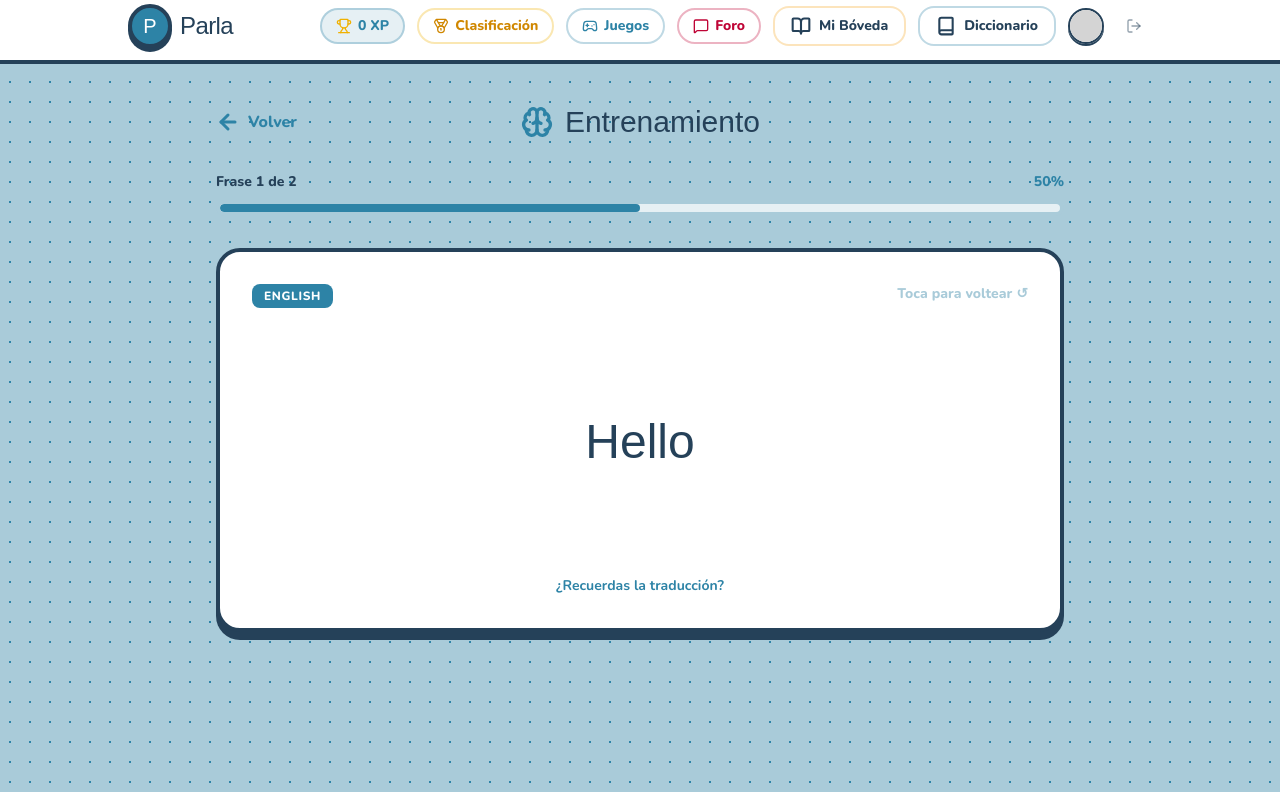
PracticePage Integration Tests › Review Submission › moves to next phrase after review
The width and height of the screenshot is (1280, 792).
Expected: the heading "Hello" is shown, top-left (585, 412), bottom-right (695, 472)
Click the text "Hello" at [640, 440], box top-left (216, 248), bottom-right (1064, 632)
(page scrolled)
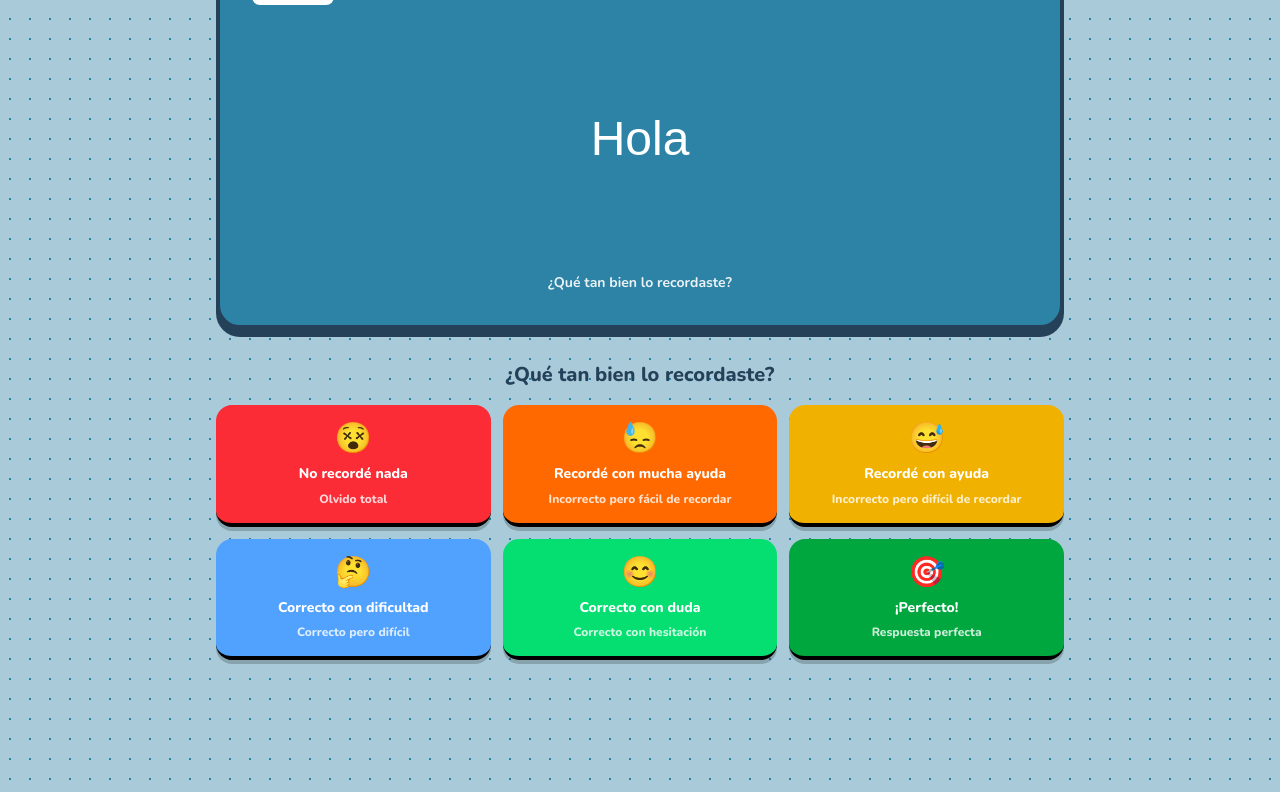
Expected: the text "¡Perfecto!" is shown
Click the text "¡Perfecto!" at [927, 607], box top-left (895, 598), bottom-right (958, 616)
(page scrolled)
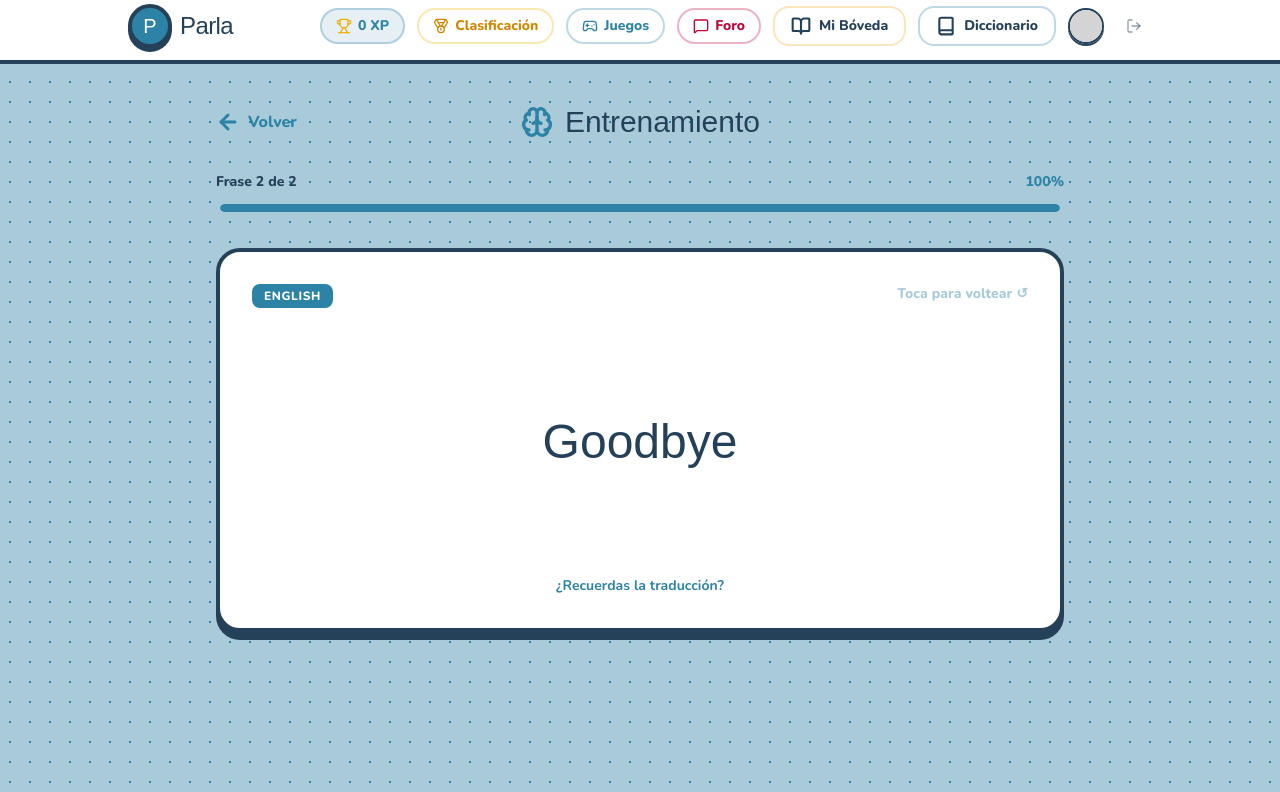
Expected: the heading "Goodbye" is shown, top-left (543, 412), bottom-right (737, 472)
